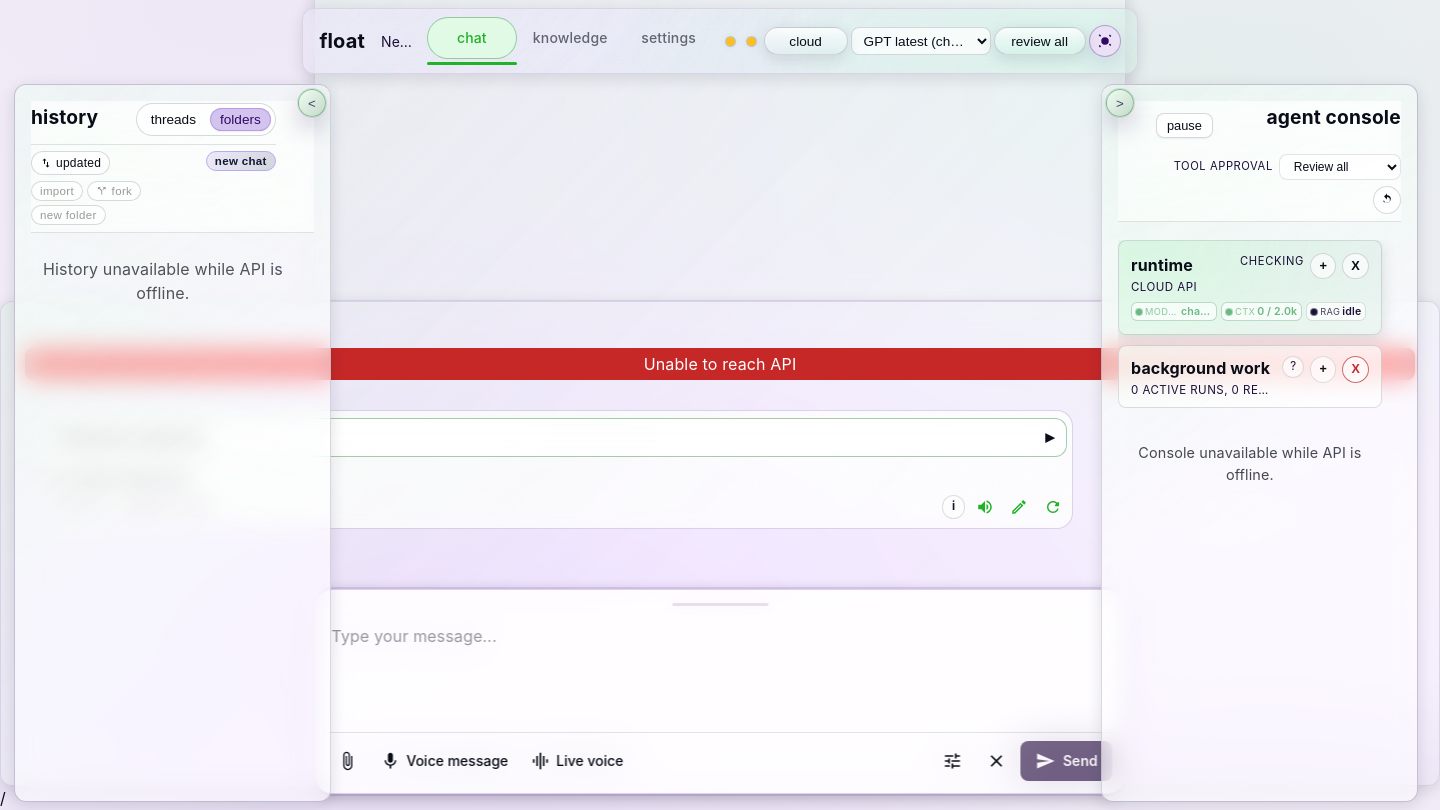
Chat › shows message metadata from the assistant action row
(page scrolled)
Click the button named "Show message metadata": click(954, 507) [942, 495, 965, 519]
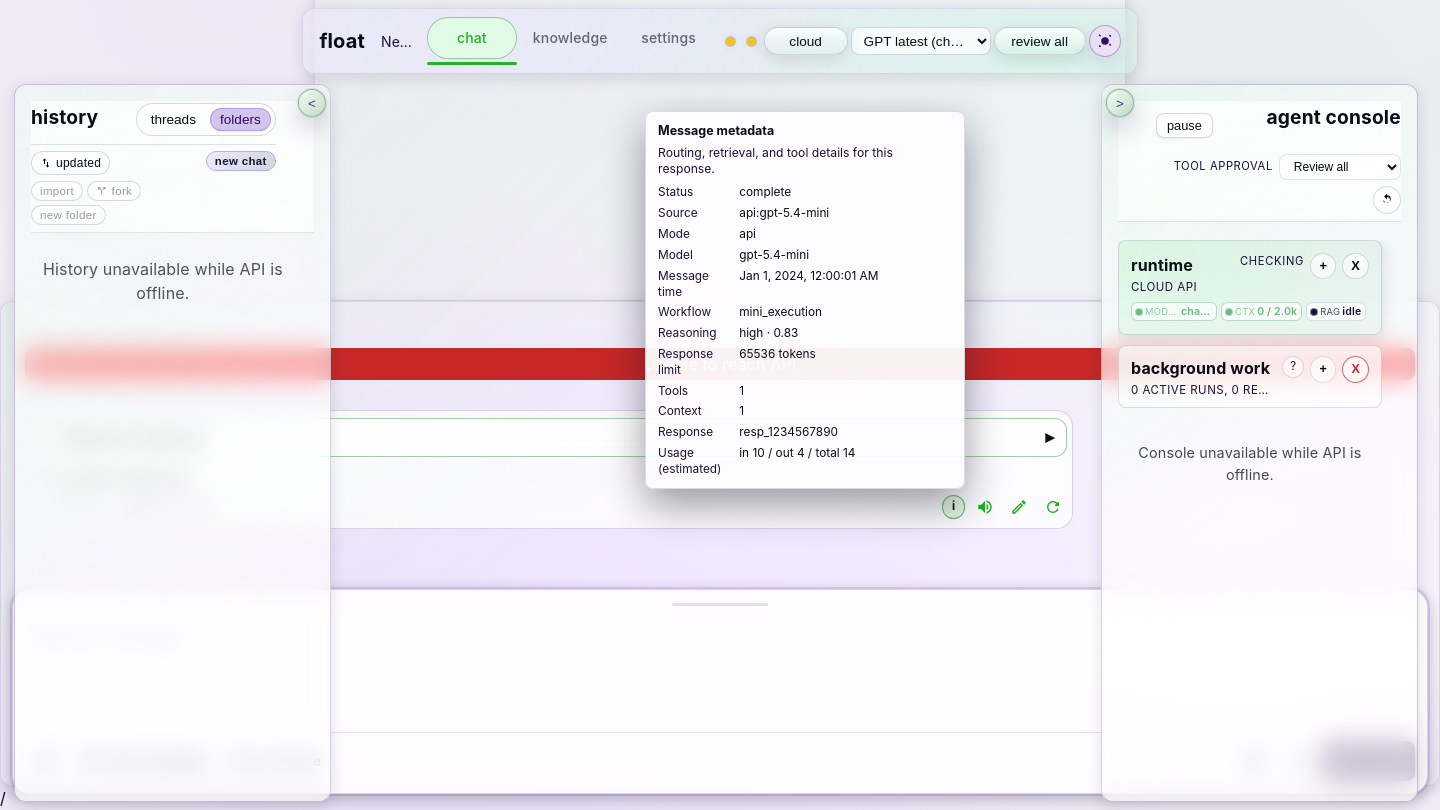
Expected: the text "Message metadata" is shown, [658, 123, 774, 138]
Expected: the text "gpt-5.4-mini" is shown, [739, 248, 809, 262]
Expected: the text "mini_execution" is shown, [739, 305, 822, 319]
